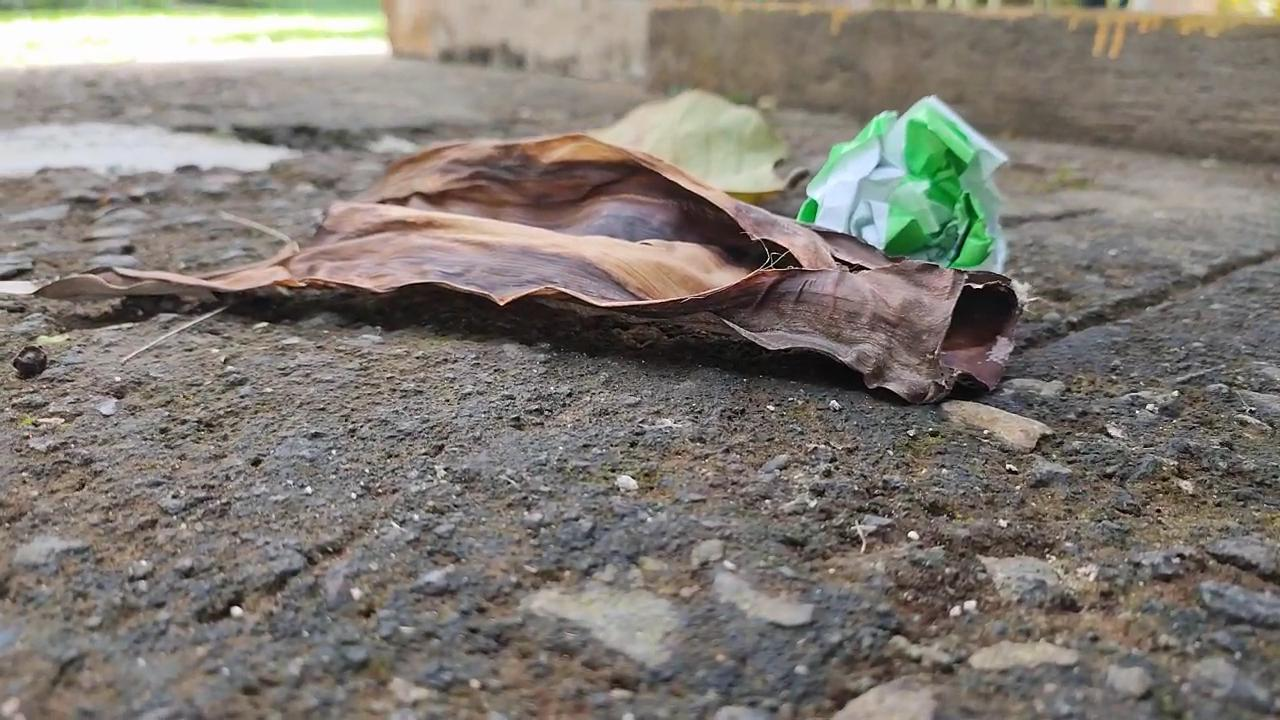Paper: (788, 88, 1029, 287)
